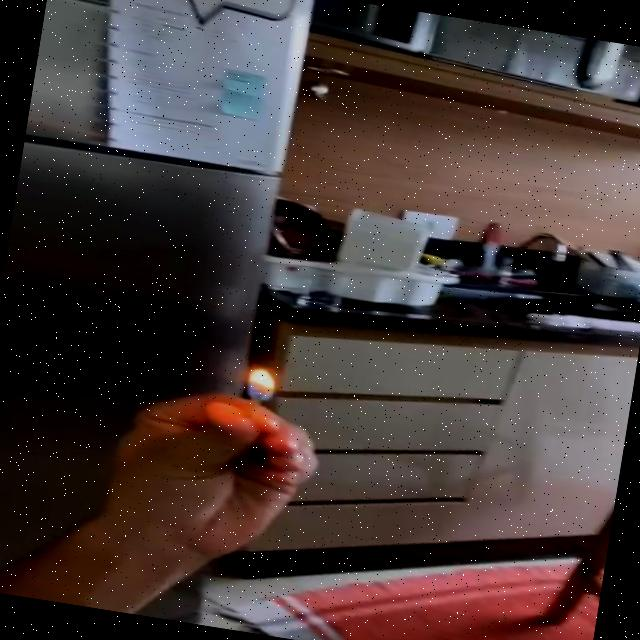fire: (243, 366, 279, 402)
